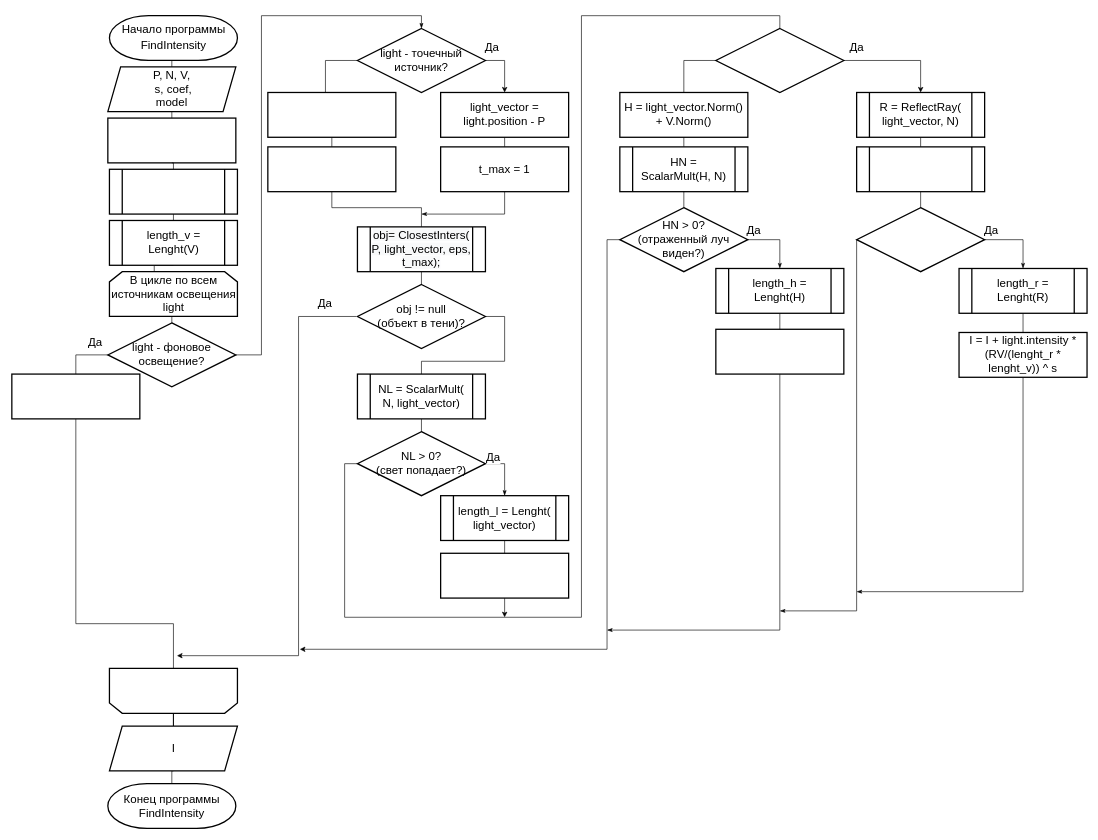
The diagram is 1098 pixels wide and 840 high, and some of its shapes have lost their labels. The shapes that lost their labels are listed below. From the top down, each one's centre as x and y in pixels, then its label:
point (779, 60): model = Фонг?
point (331, 115): light_vector = light.position
point (171, 140): I = 0
point (331, 169): t_max = PositiveInfinity
point (920, 169): RV = ScalarMult(R, V)
point (173, 191): length_n = Lenght(N)
point (920, 239): RV > 0? (отраженный луч виден?)
point (779, 351): I = I + light.intensity * (HN/(lenght_h * lenght_n)) ^ (s * coef)
point (75, 396): I = I + light.intensity
point (504, 575): I = I + light.intensity * NL/(length_n * length_l)
point (173, 691): Конец цикла по источникам освещения
